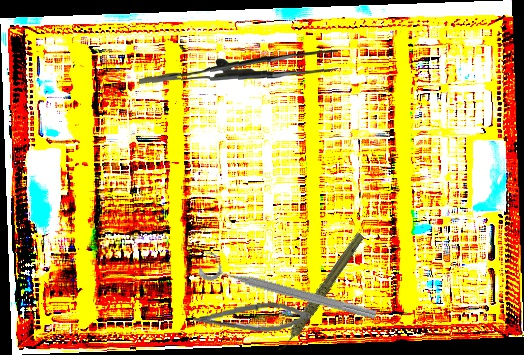Fixation Ring: (197, 248, 381, 326)
Handpiece: (254, 230, 385, 354)
Micro Scissor: (191, 297, 312, 340)
Tissue Forceps: (138, 43, 339, 91)
